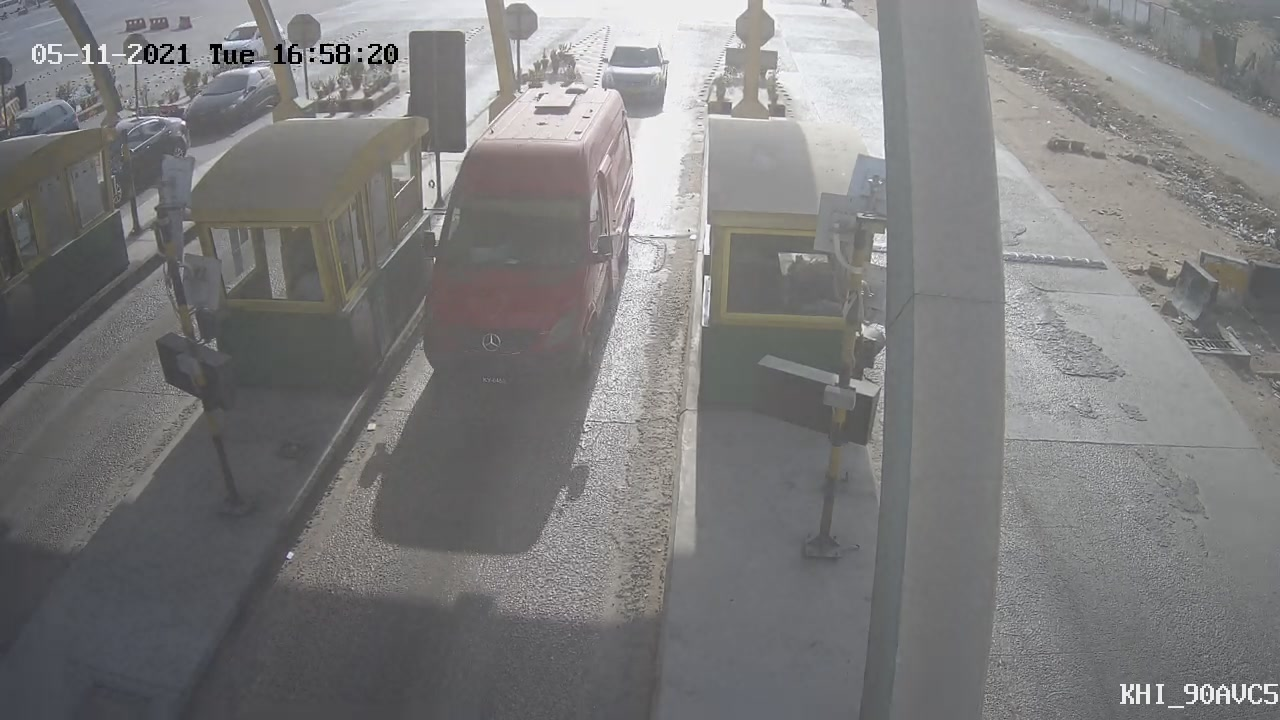F2: (394, 57, 657, 414)
